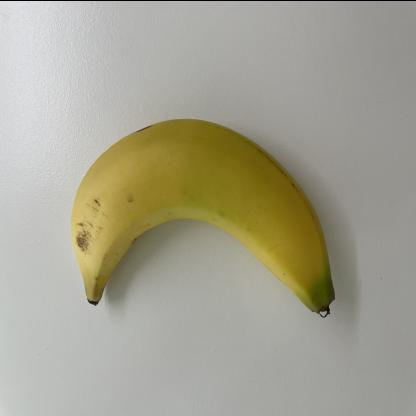banana: (63, 111, 346, 324)
